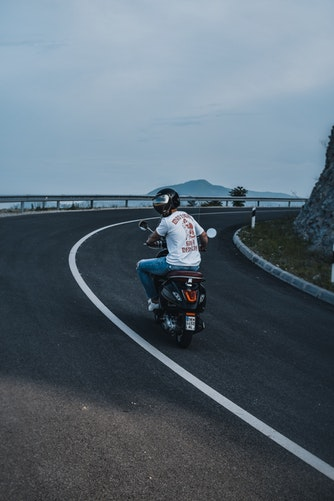helmet: (145, 185, 183, 217)
